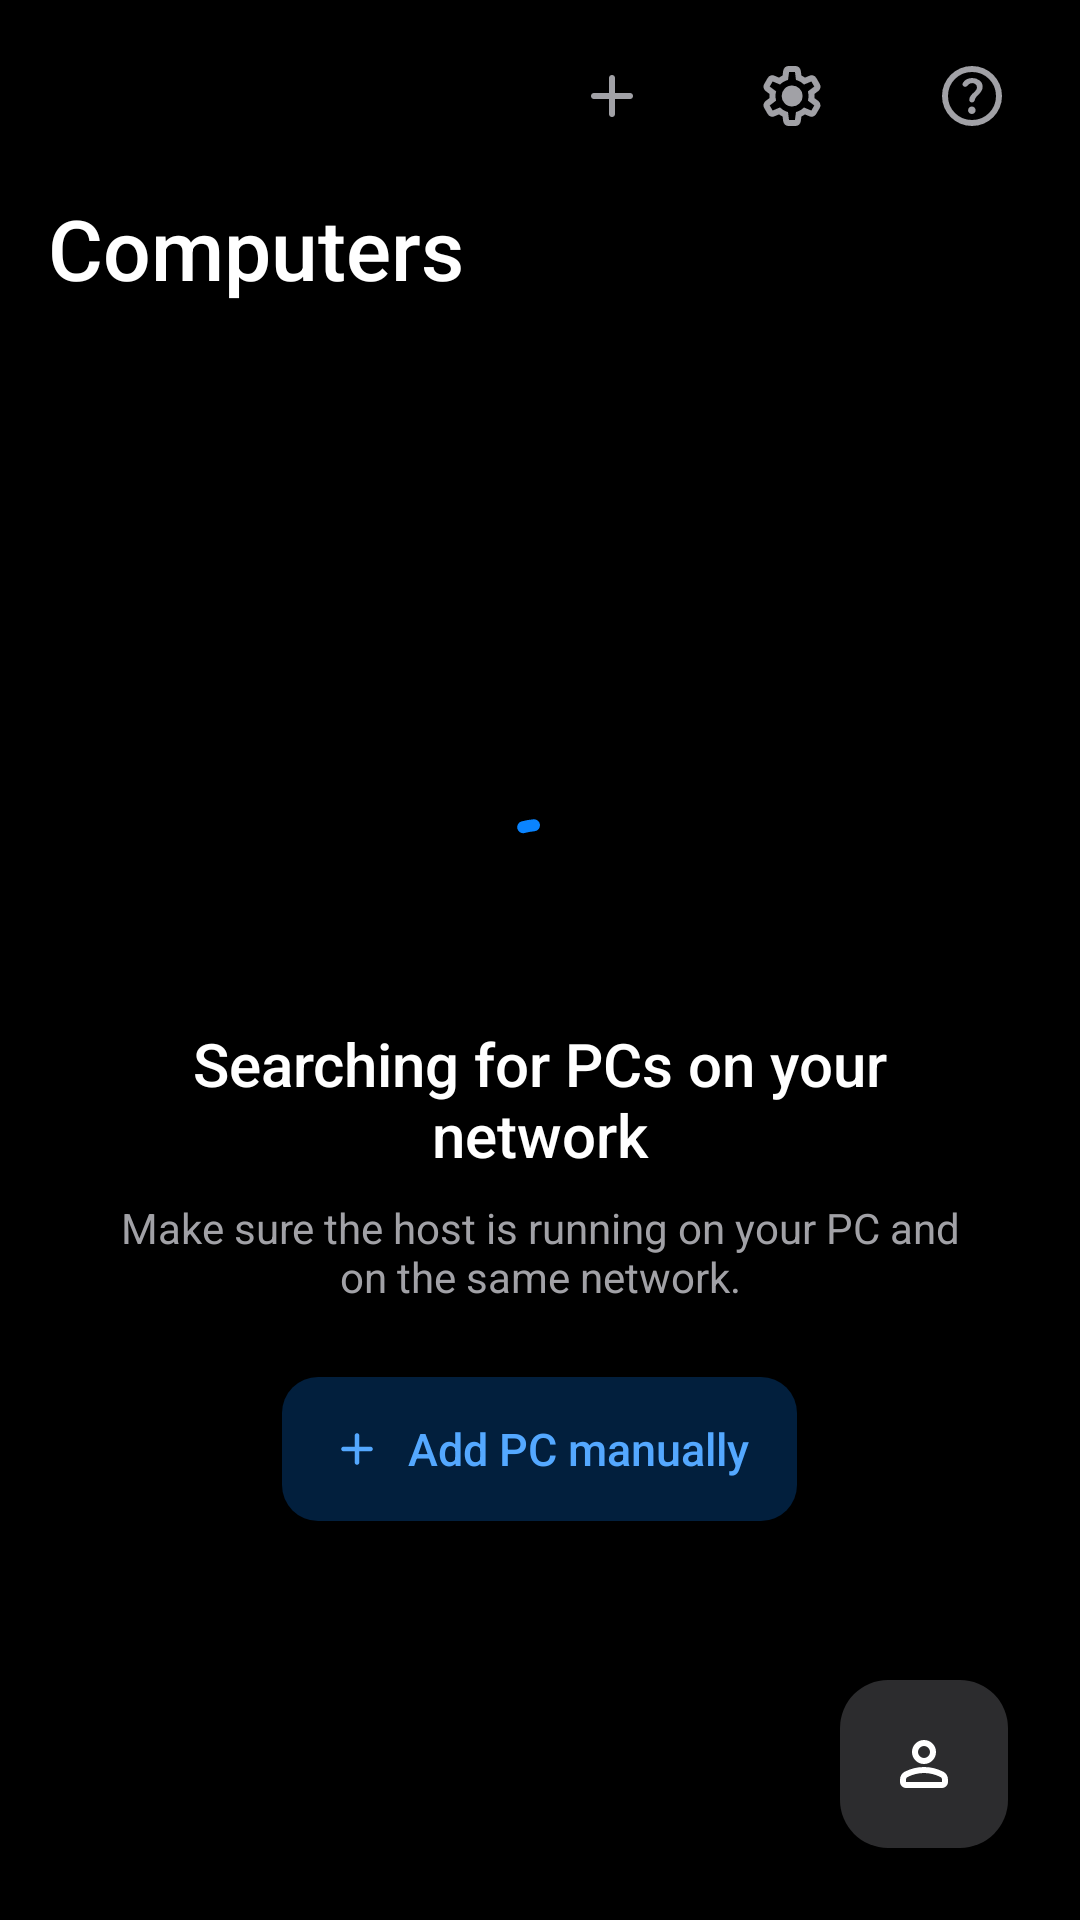

Locate icon controls on the screen. Image size 1080 x 1920, boxes as {"x1": x1, "y1": y1, "x2": x2, "y2": y2}.
Add PC Manually: {"x1": 591, "y1": 75, "x2": 633, "y2": 117}
Choose Profile: {"x1": 840, "y1": 1680, "x2": 1008, "y2": 1848}
Help: {"x1": 942, "y1": 66, "x2": 1002, "y2": 126}
Settings: {"x1": 763, "y1": 66, "x2": 821, "y2": 126}
